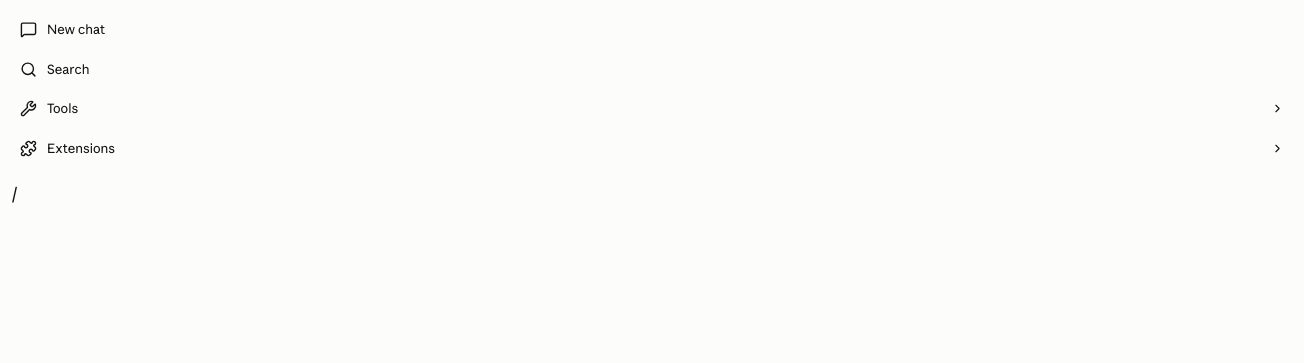
extension navigation › opens customization without directory or standalone MCP (collapsed=false)
Click the button "Extensions".
click(81, 148)  # box [12,130,1292,166]
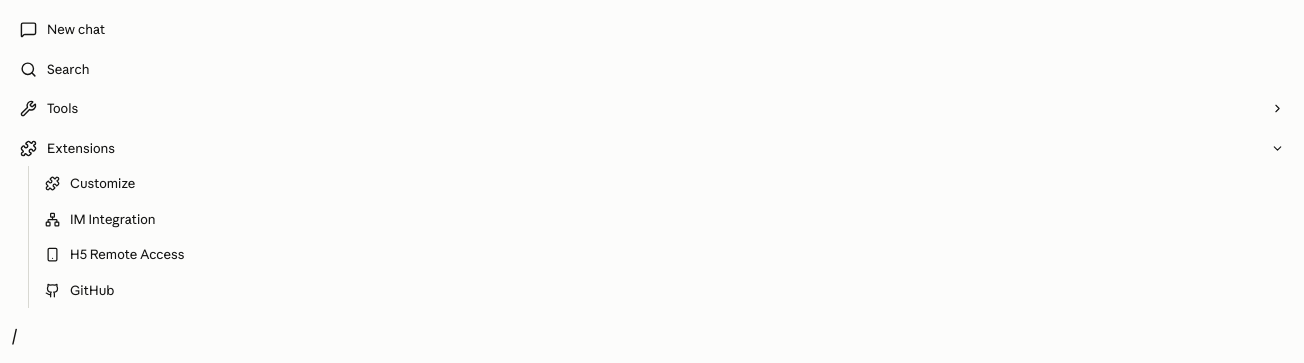
Click the button "Customize".
click(103, 183)  # box [37,166,1292,202]
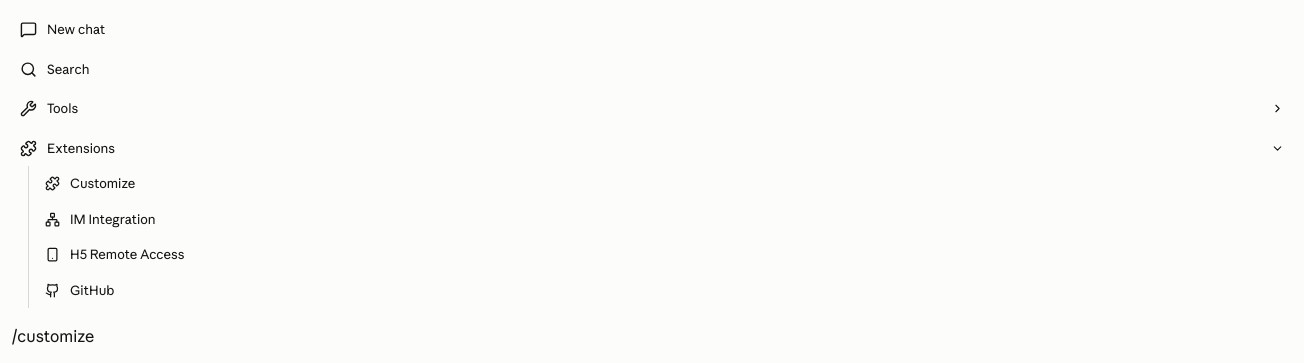
Now the text with test id "location" reads "/customize", box [12,326,94,346]
